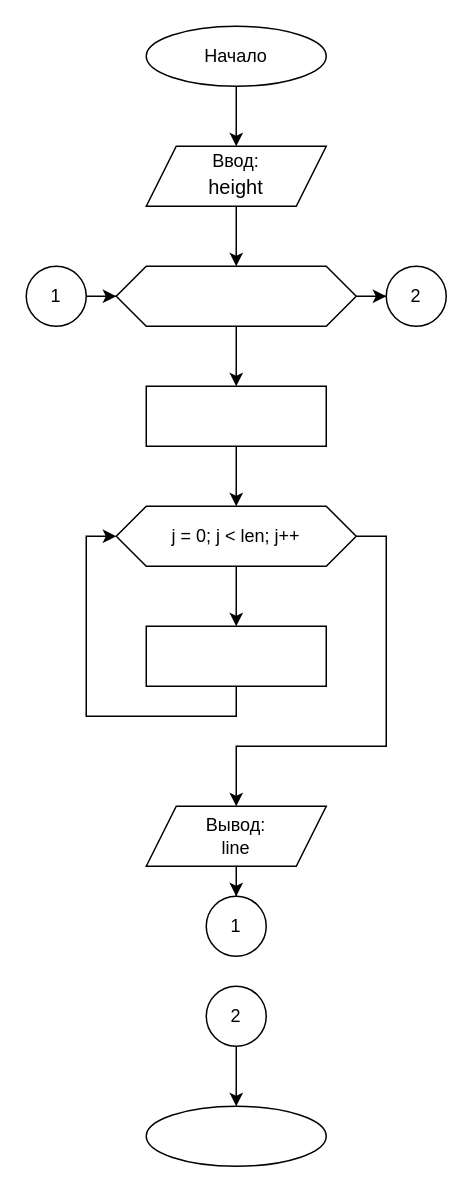
Image size: 473x1193. Some labels were removed from this diagram. Each missing label, with the box of its shape:
i = 0; i < height; i++: (115, 265, 356, 326)
len = 1 + i * 2: (145, 385, 326, 446)
line[j] = '^': (145, 625, 326, 686)
Конец: (145, 1105, 326, 1166)
